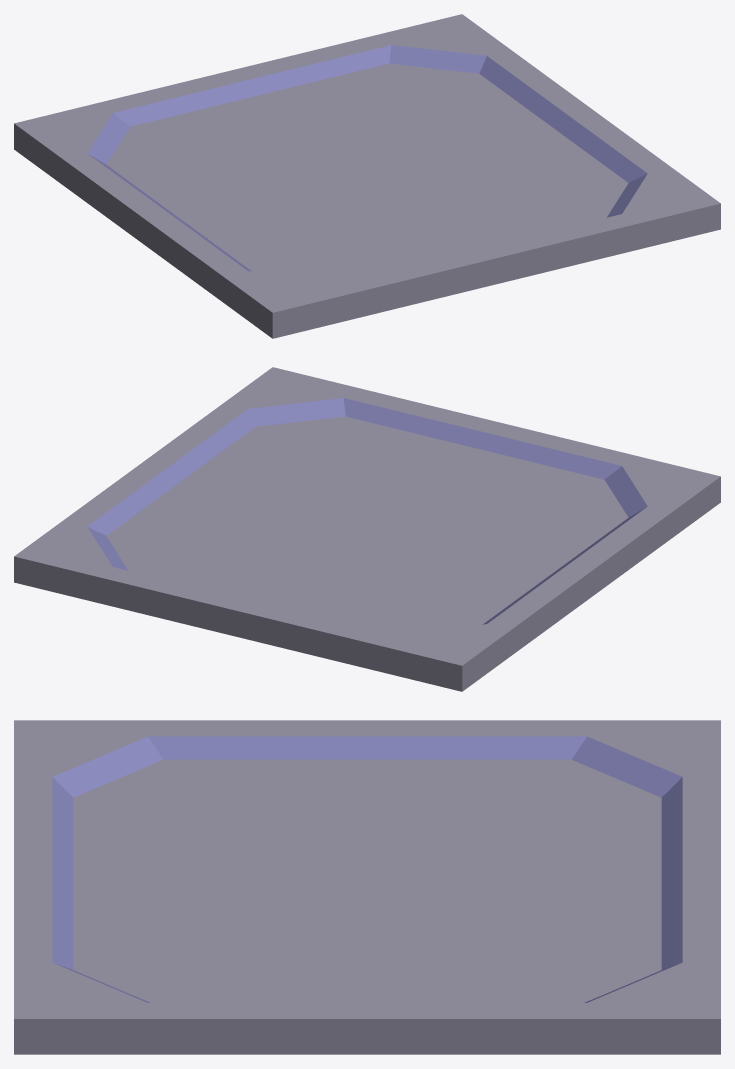
The model's file is TilePanel.fbx.
3 views of the same model, one above another, from view 1: azimuth 30°, elevation 25°; view 2: azimuth 150°, elevation 25°; view 3: azimuth 270°, elevation 25° (orthographic). The views are drawn at different scales.
Parts seen in each view (by area): view 1: TilePanel; view 2: TilePanel; view 3: TilePanel.
Boxes of the visible parts, x1=… form: TilePanel: x1=14, y1=14, x2=720, y2=338; TilePanel: x1=14, y1=367, x2=720, y2=691; TilePanel: x1=14, y1=720, x2=720, y2=1054.
Size of the model in its own units: 200 by 11.1 by 200.
